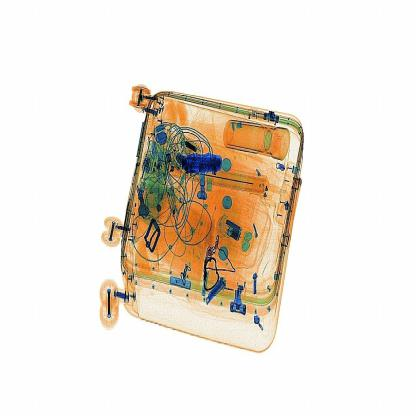scissors: (174, 145, 230, 187)
